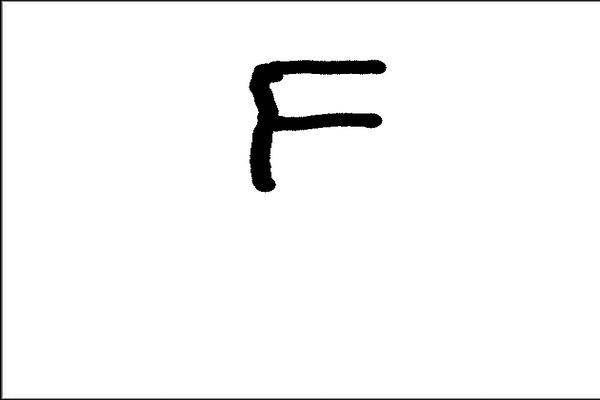F: (244, 54, 391, 196)
